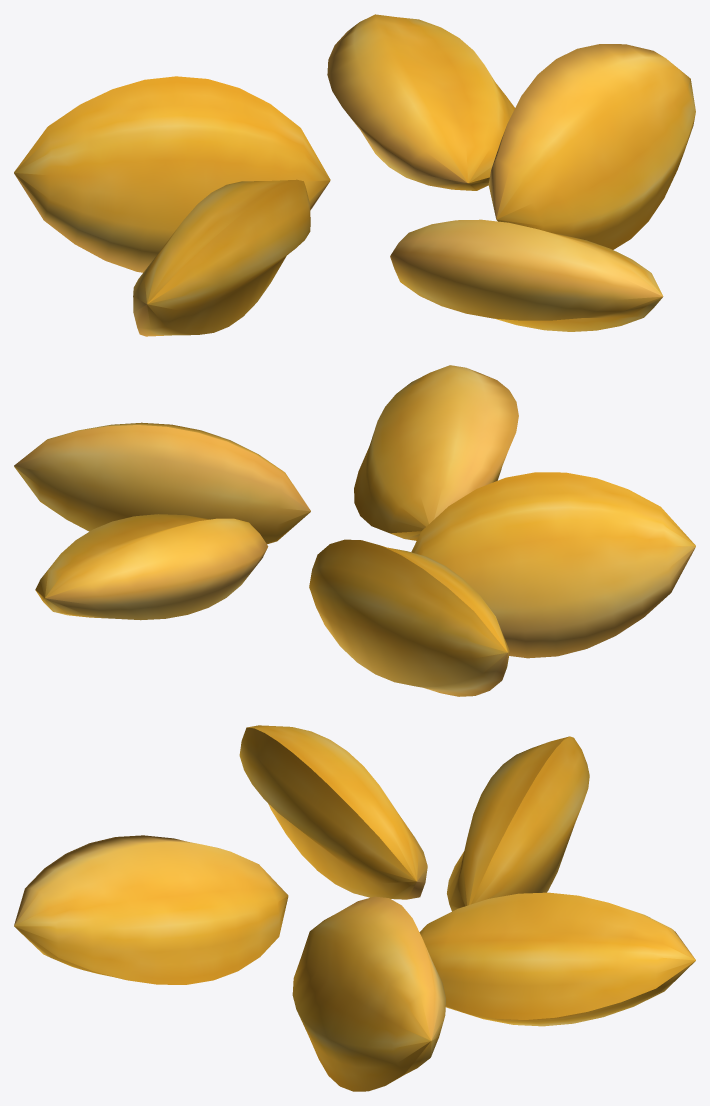
File: NP_Wheat_Seed.fbx
The picture shows the model from 3 angles, top to bottom: view 1: azimuth 30°, elevation 25°; view 2: azimuth 150°, elevation 25°; view 3: azimuth 270°, elevation 25°; orthographic projection. The views are drawn at different scales.
Visible parts, largest first — view 1: NP_Wheat_Seed; view 2: NP_Wheat_Seed; view 3: NP_Wheat_Seed.
Boxes of the visible parts, box(x1,y1,x2,y2) form: NP_Wheat_Seed: box(14, 14, 695, 336); NP_Wheat_Seed: box(14, 365, 695, 696); NP_Wheat_Seed: box(14, 725, 695, 1091).
Bounding box in the file's own units: 17.09 × 4.41 × 16.4.
